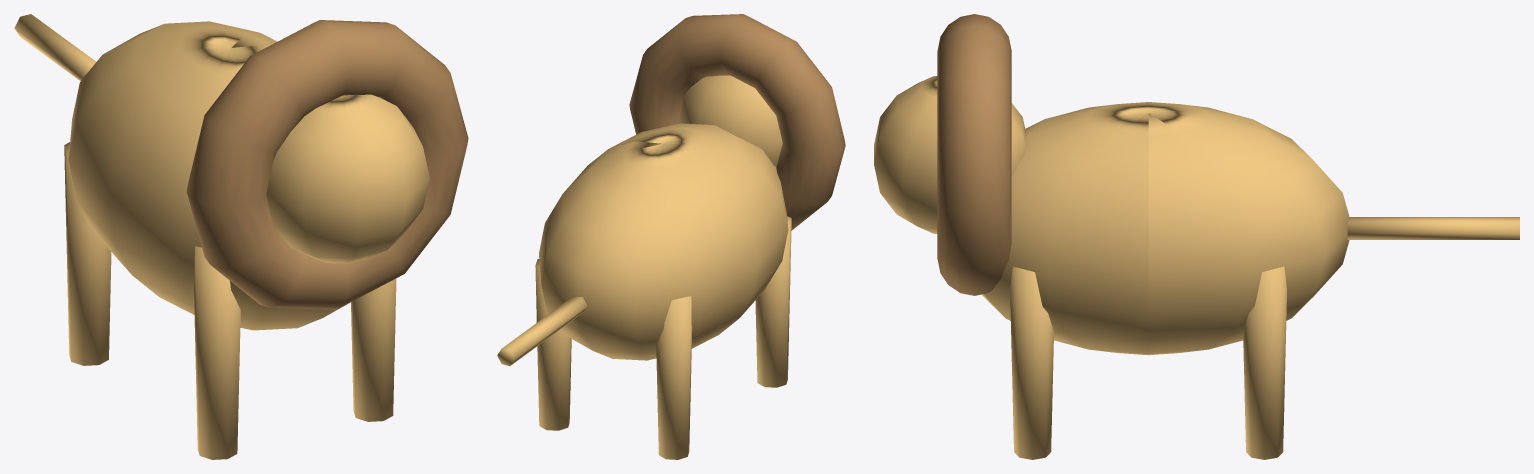
Rendered from abd45b33-1a8a-452a-ad02-20774c03023b.glb.
3 views of the same model, side by side, from view 1: azimuth 30°, elevation 25°; view 2: azimuth 150°, elevation 25°; view 3: azimuth 270°, elevation 25° (orthographic). The views are drawn at different scales.
Parts seen in each view (by area): view 1: Generated3DMesh; view 2: Generated3DMesh; view 3: Generated3DMesh.
Boxes of the visible parts, <box> form: Generated3DMesh: <box>14,14,468,459</box>; Generated3DMesh: <box>497,14,845,459</box>; Generated3DMesh: <box>874,14,1519,459</box>.
Bounding box in the file's own units: 1.22 × 1.86 × 2.78.
